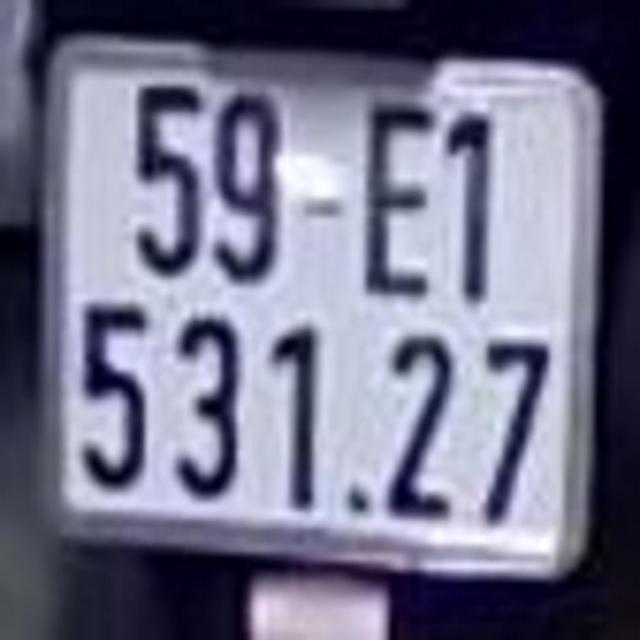1: (263, 303, 334, 516), (443, 96, 504, 311)
2: (378, 318, 455, 524)
3: (173, 300, 246, 503)
5: (72, 290, 154, 509), (124, 73, 207, 281)
7: (473, 314, 552, 537)
9: (208, 74, 286, 280)
E: (357, 73, 439, 305)
